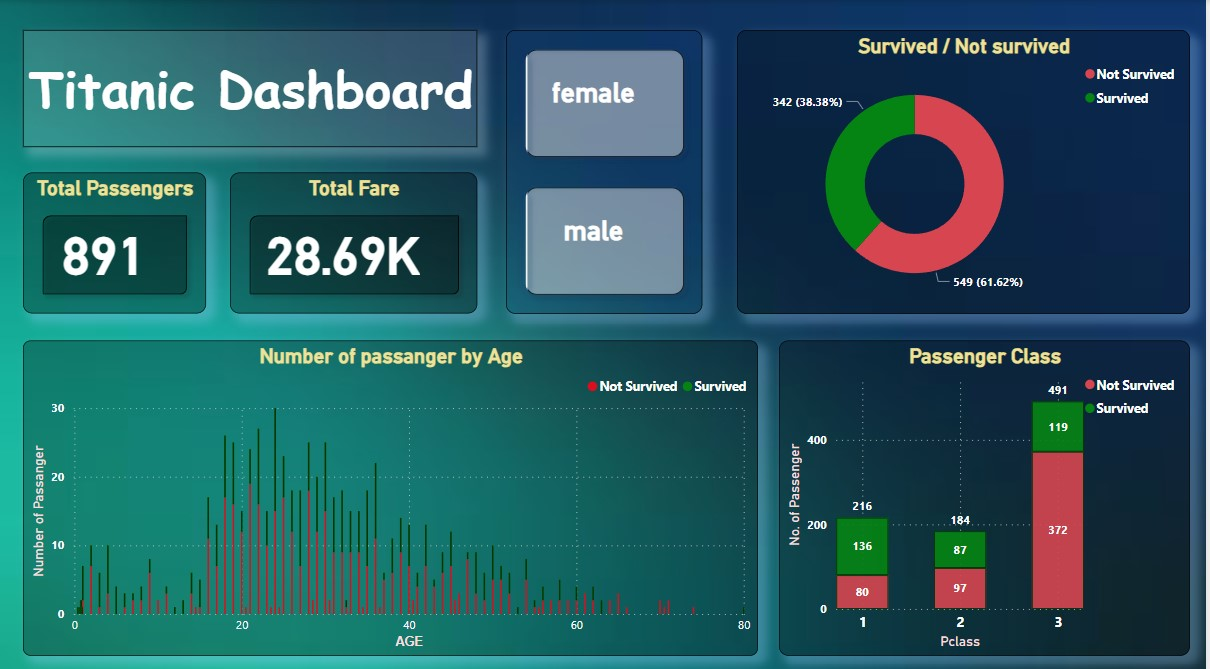

The dashboard page shown, as its layout file describes it:
{"tool":"powerbi","page":{"name":"Titanic","canvas":[1280,720],"ordinal":0},"visuals":[{"type":"cardVisual","title":"Total Passengers","fields":{"Data":["CountNonNull(titanic.PassengerId)"]},"box":[25.4,182.8,193.9,149.4],"z":0},{"type":"advancedSlicerVisual","title":"Total Survived","fields":{"Values":["titanic.gender"]},"box":[537.2,31.8,208.2,300.4],"z":1000},{"type":"columnChart","title":"Passenger Class","fields":{"Category":["titanic.Pclass"],"Y":["CountNonNull(titanic.Pclass)"],"Series":["titanic.Survived_"]},"box":[826.5,360.8,435.5,333.8],"z":2000},{"type":"columnChart","title":"Number of passanger by Age ","fields":{"Category":["titanic.Age"],"Y":["CountNonNull(titanic.PassengerId)"],"Series":["titanic.Survived_"]},"box":[25.4,360.8,778.8,333.8],"z":3000},{"type":"donutChart","title":"Survived / Not survived","fields":{"Y":["CountNonNull(titanic.PassengerId)"],"Category":["titanic.Survived_"]},"box":[782,31.8,480,300.4],"z":4000},{"type":"textbox","box":[25.4,31.8,481.6,124],"z":5000},{"type":"cardVisual","title":"Total Fare","fields":{"Data":["Sum(titanic.Fare)"]},"box":[244.8,182.8,262.3,149.4],"z":6000}]}

Visuals, with their boxes in screenshot pixels (x1, y1, x2, y2), scaled from the page's 1280x720 canvas onto the 1210x669 screenshot:
"Total Passengers" cardVisual: 24, 170, 207, 309
"Total Survived" advancedSlicerVisual: 508, 30, 705, 309
"Passenger Class" columnChart: 781, 335, 1193, 645
"Number of passanger by Age " columnChart: 24, 335, 760, 645
"Survived / Not survived" donutChart: 739, 30, 1193, 309
textbox: 24, 30, 479, 145
"Total Fare" cardVisual: 231, 170, 479, 309
